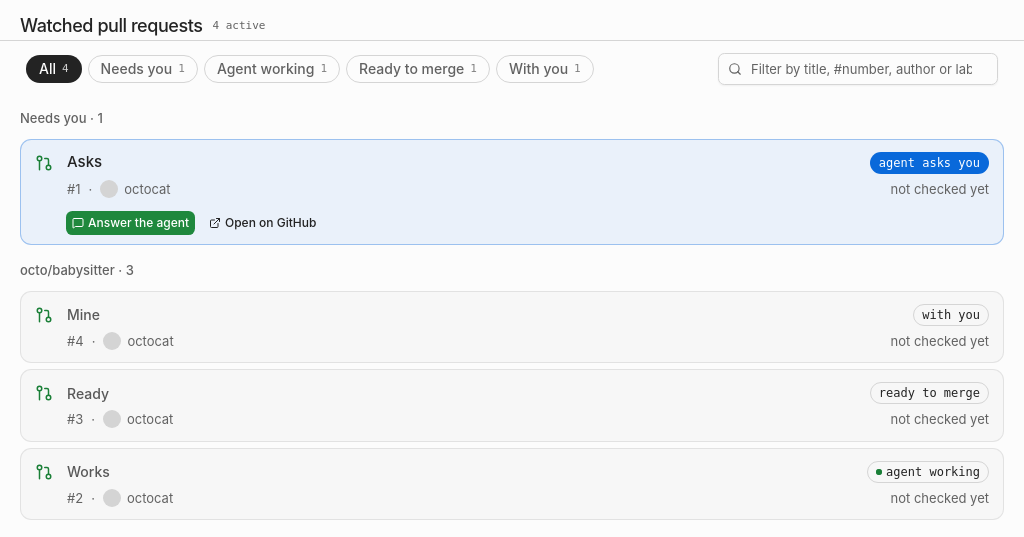
the state chips count the watches and keep only the chosen state
Expected: the radio button labelled "All 4" is checked, [26,55,82,83]
Expected: the radio button labelled "Needs you 1" is shown, [88,55,198,83]
Click the radio button labelled "Ready to merge 1" at (418, 69), box [346,55,490,83]
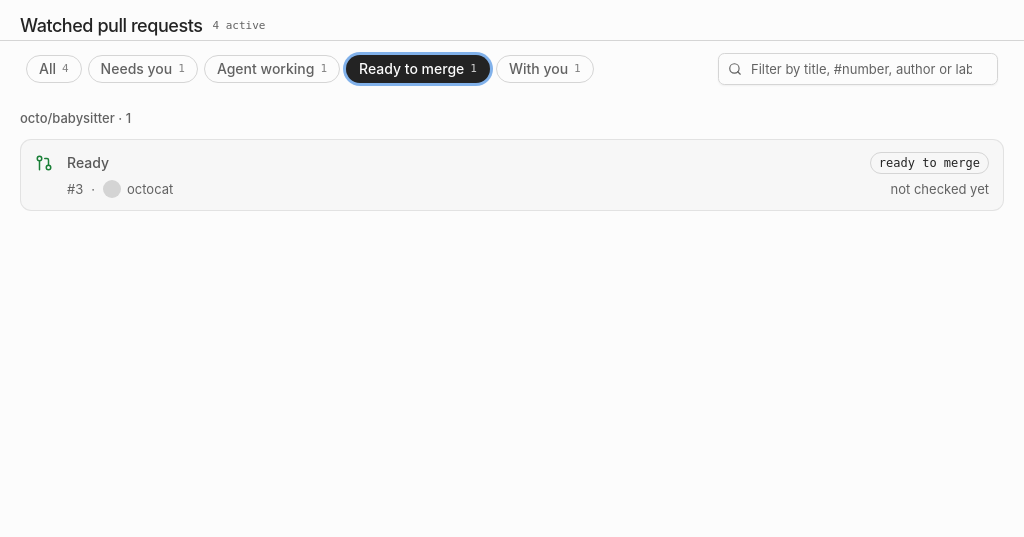
Now the button "Asks" is gone
Now the button "Works" is gone
Now the button "Mine" is gone
